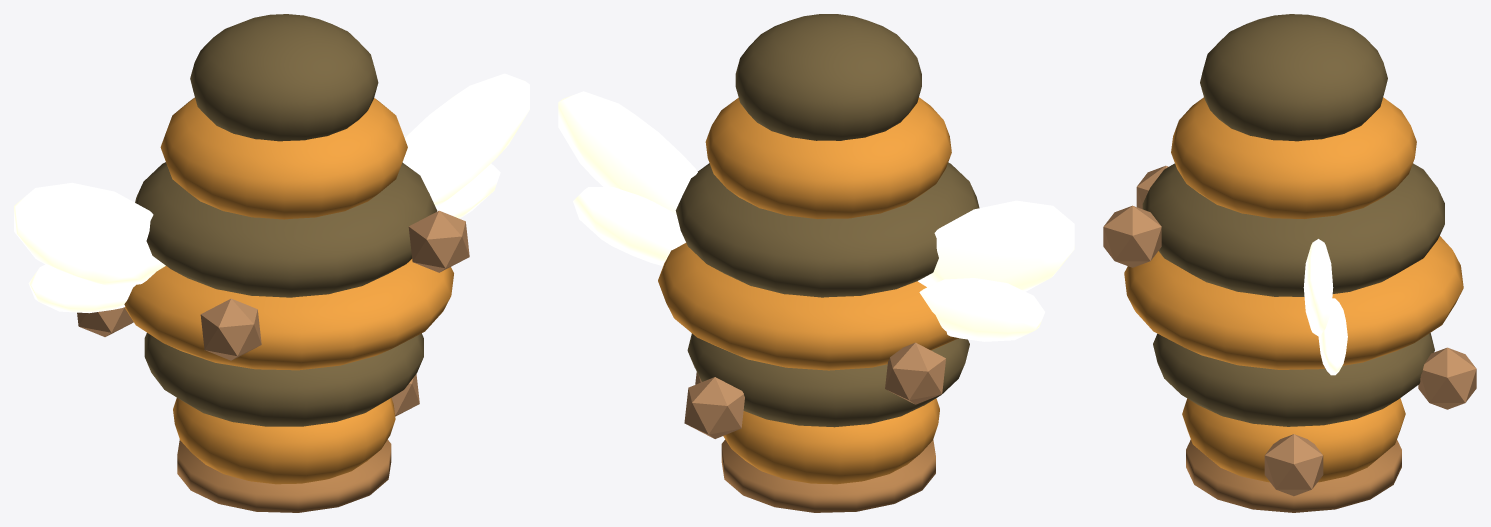
File: egg_volcano_04.glb
The picture shows the model from 3 angles, left to right: view 1: azimuth 30°, elevation 25°; view 2: azimuth 150°, elevation 25°; view 3: azimuth 270°, elevation 25°; orthographic projection.
Visible parts, largest first — view 1: ball; view 2: ball; view 3: ball.
Boxes of the visible parts, x1,y1,x2,y2 form: ball: [14, 14, 529, 512]; ball: [558, 14, 1074, 512]; ball: [1103, 14, 1476, 512].
Bounding box in the file's own units: 1.2 × 0.99 × 0.7608.
